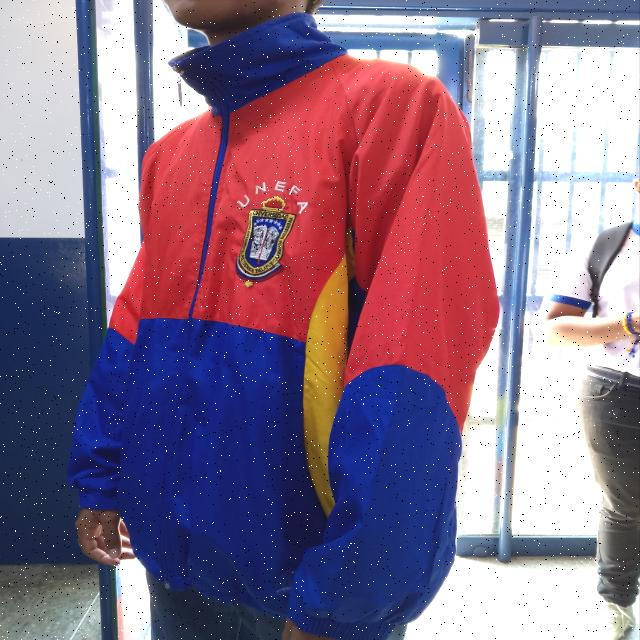chaqueta_unefa: (68, 10, 503, 638)
